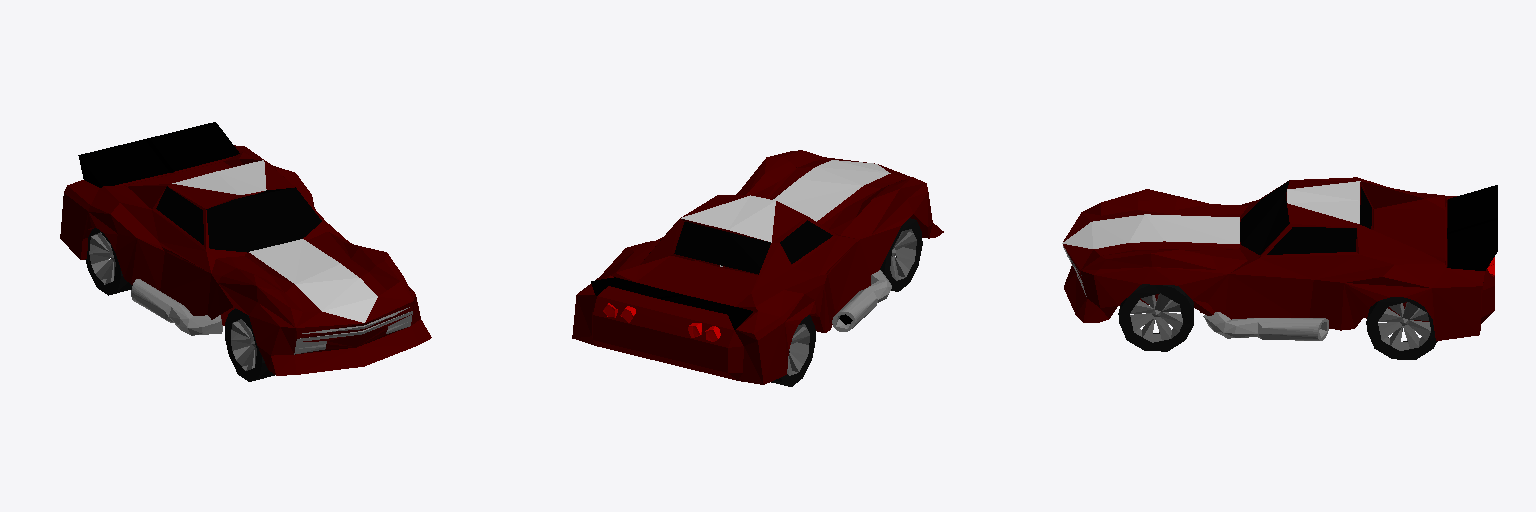
Rendered from corvette.obj.
3 views of the same model, side by side, from view 1: azimuth 30°, elevation 25°; view 2: azimuth 150°, elevation 25°; view 3: azimuth 270°, elevation 25° (orthographic).
Visible parts, largest first — view 1: Cube, Cylinder.003, Cylinder.001; view 2: Cube, Cylinder.003, Cylinder.001; view 3: Cube, Cylinder.003, Cylinder.001.
Part boxes in pixels (x1,y1,x2,y2): Cube: (60, 122, 431, 375); Cylinder.003: (225, 308, 274, 381); Cylinder.001: (85, 228, 132, 295); Cube: (572, 150, 943, 384); Cylinder.003: (880, 218, 922, 291); Cylinder.001: (771, 315, 815, 386); Cube: (1062, 177, 1497, 340); Cylinder.003: (1118, 284, 1193, 351); Cylinder.001: (1366, 297, 1437, 359).
Bounding box in the file's own units: 4.45 × 2.44 × 7.93.